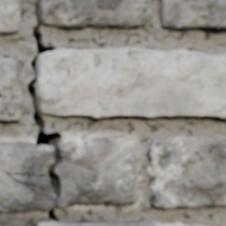brick: (37, 48, 225, 118), (148, 137, 225, 207), (39, 0, 151, 29), (159, 0, 225, 29), (0, 59, 21, 120), (39, 220, 185, 225), (0, 0, 22, 33)
broken_brick: (57, 136, 141, 207), (0, 172, 56, 212), (0, 141, 53, 173)
crack: (0, 2, 65, 223)
